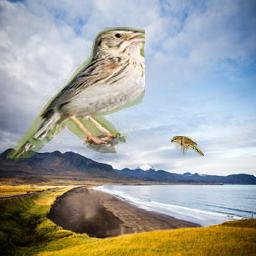Cuckoo: (172, 136, 205, 156)
Sparrow: (5, 28, 146, 161)
